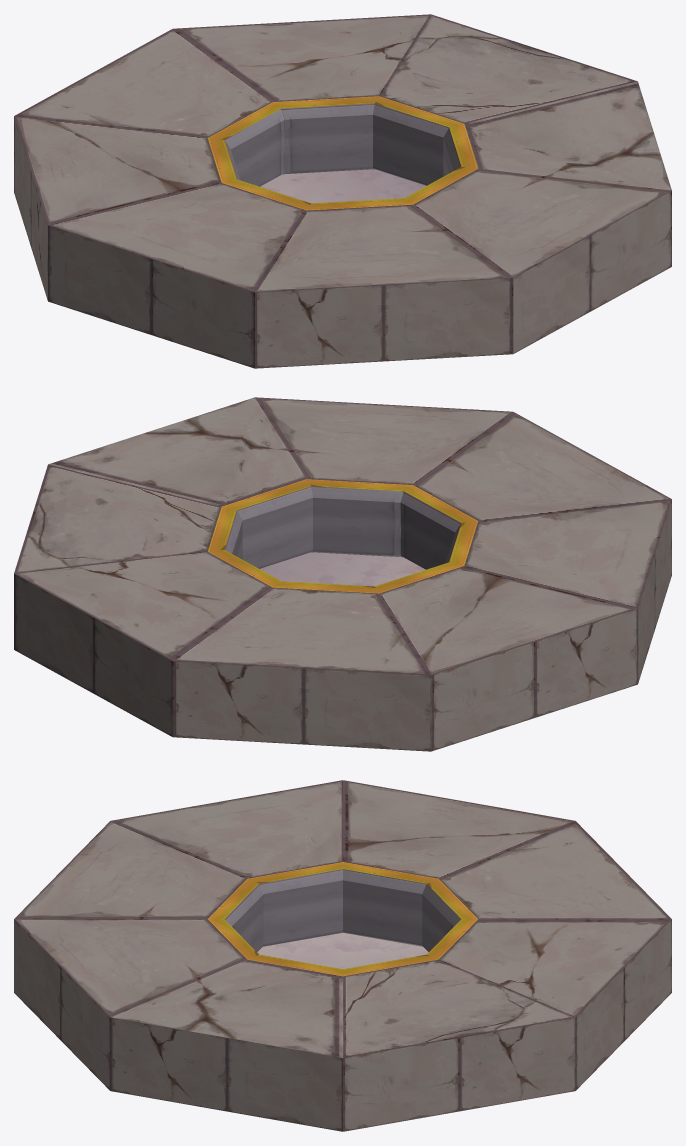
File: prop_DeathtrapPlatform.fbx
3 renders of one model, top to bottom at view 1: azimuth 30°, elevation 25°; view 2: azimuth 150°, elevation 25°; view 3: azimuth 270°, elevation 25°, orthographic. The views are drawn at different scales.
Parts seen in each view (by area): view 1: prop_Octagonv2Platform; view 2: prop_Octagonv2Platform; view 3: prop_Octagonv2Platform.
Part boxes in pixels (<box>): prop_Octagonv2Platform: <box>14,14,671,368</box>; prop_Octagonv2Platform: <box>14,397,671,751</box>; prop_Octagonv2Platform: <box>14,780,671,1131</box>.
Bounding box in the file's own units: 2361 × 291 × 2361.
